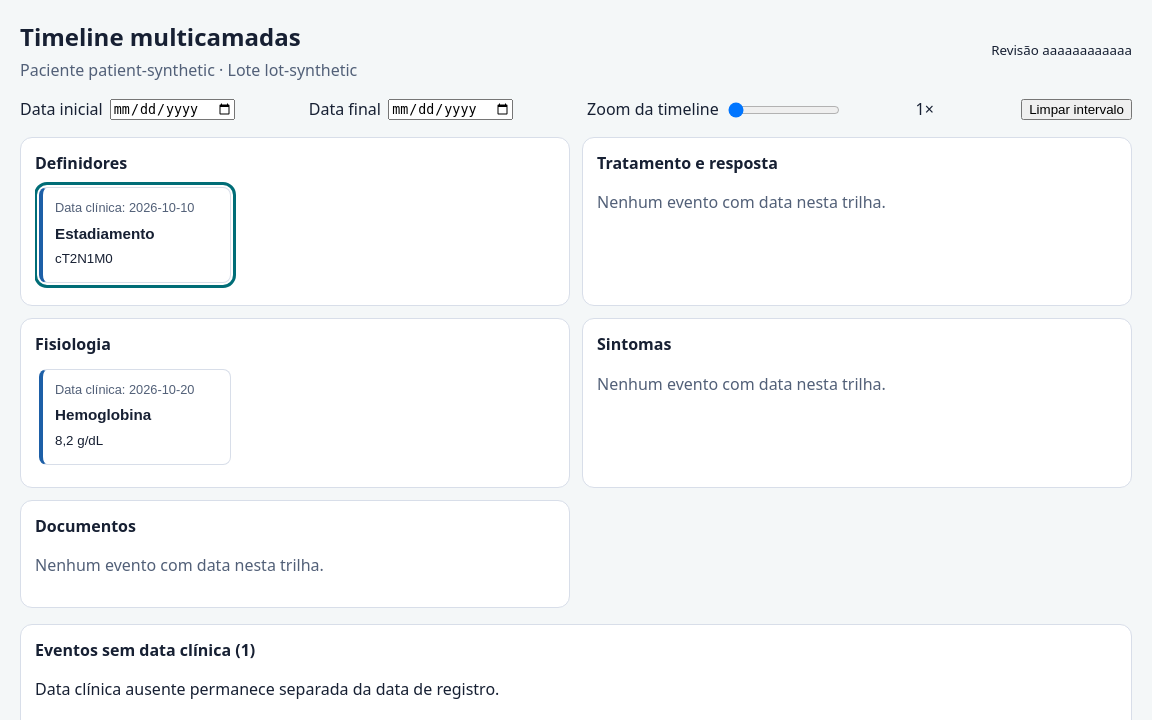
Test: TimelineMulticamadas › permite selecionar por teclado e ajustar zoom sem perder o foco
The width and height of the screenshot is (1152, 720).
Press Enter in the button "Data clínica: 2026-10-10 Estadiamento cT2N1M0", box [39,187,231,283]
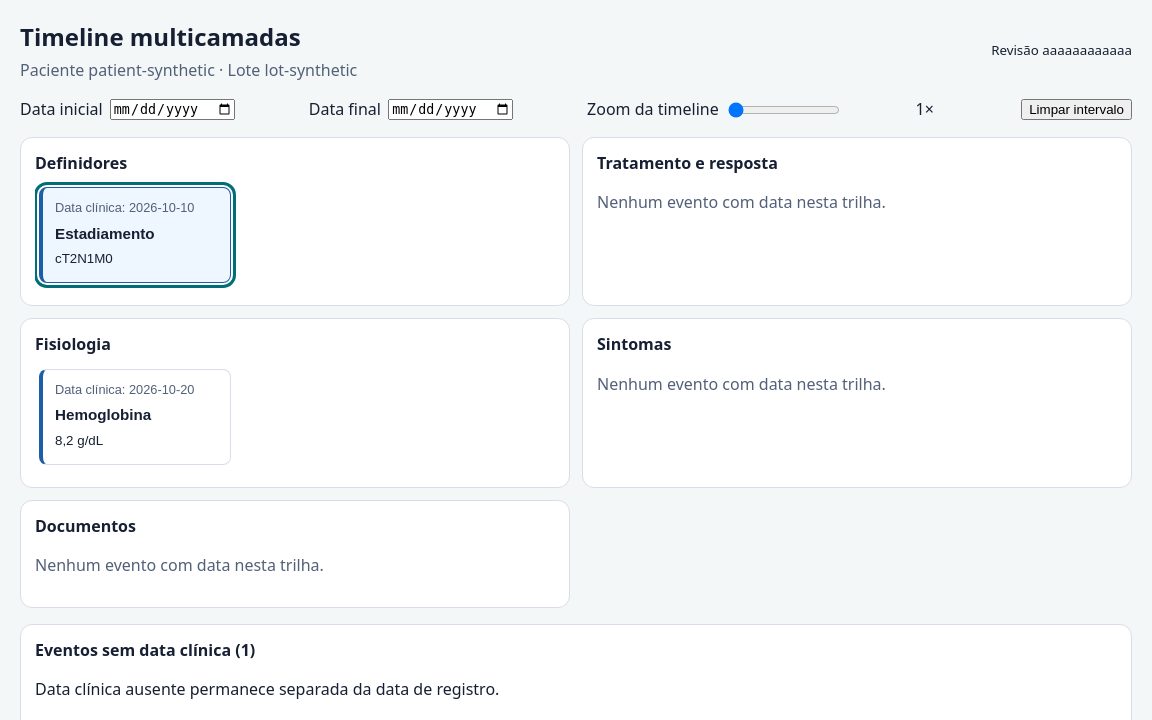
Set the slider labelled "Zoom da timeline" to "2" at (784, 110), box [728,102,840,118]
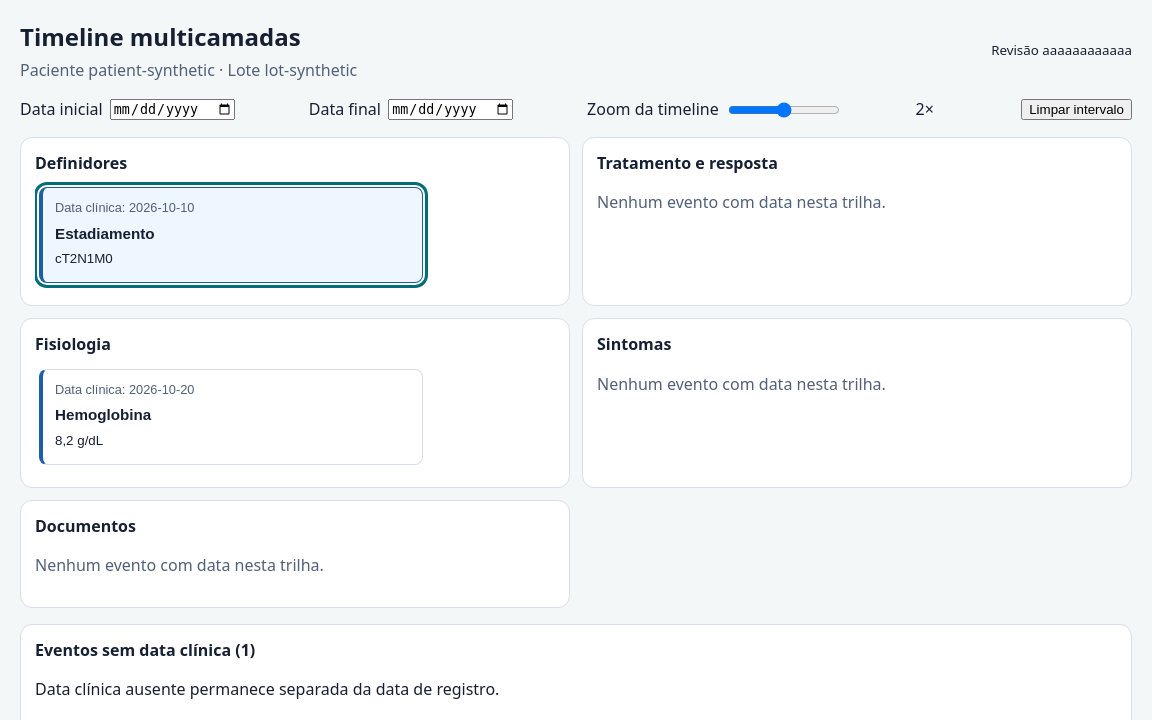
Result: the text "2×" is shown at [916,98,934,120]
